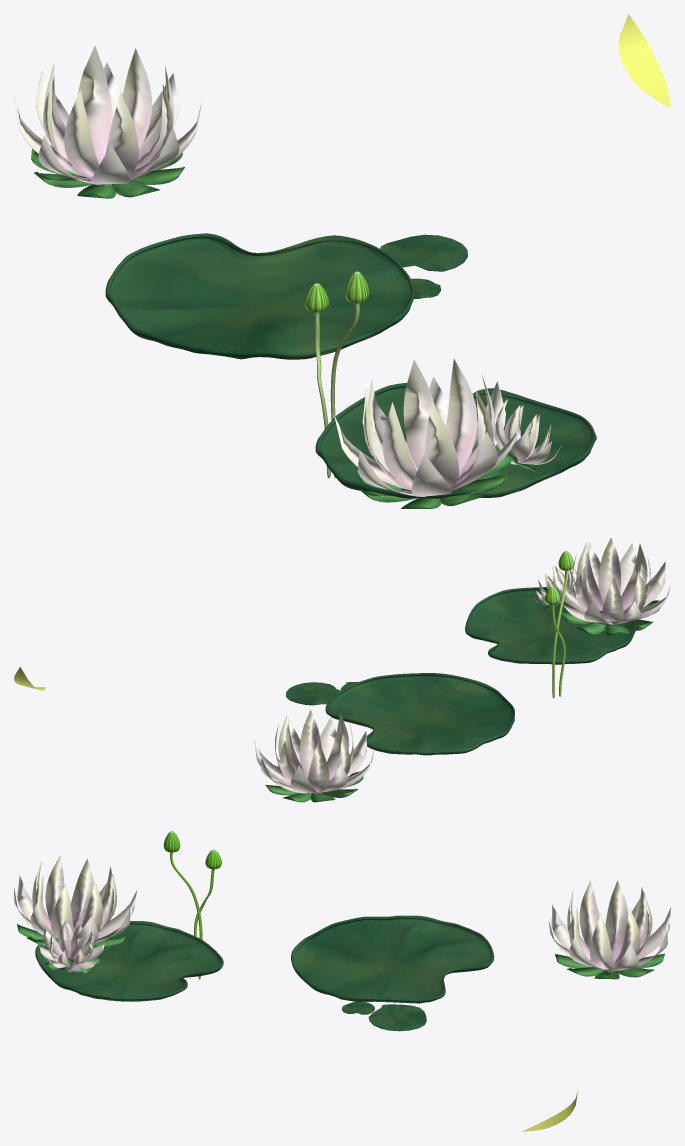
The model's file is lilipad.fbx.
3 views of the same model, one above another, from view 1: azimuth 30°, elevation 25°; view 2: azimuth 150°, elevation 25°; view 3: azimuth 270°, elevation 25° (orthographic). The views are drawn at different scales.
Parts seen in each view (by area): view 1: Circle, Plane.004, Plane.017, Circle.002, Plane.003, Plane.016, Plane.006, Circle.005, Plane.007, Plane.005, Circle.001, Circle.003 (+2 smaller); view 2: Circle, Circle.002, Plane.017, Plane.004, Plane.003, Plane.016, Circle.005, Plane.005, Plane.006, Circle.001, Circle.003; view 3: Circle, Circle.002, Plane.004, Plane.017, Plane.003, Plane.016, Circle.005, Plane.020, Plane.006, Plane.019, Circle.001, Plane.005 (+2 smaller).
Part boxes in pixels (box(x1,y1,x2,y2)): Circle: box(105, 233, 415, 359); Plane.004: box(43, 45, 173, 178); Plane.017: box(363, 358, 495, 490); Circle.002: box(315, 383, 596, 498); Plane.003: box(14, 62, 202, 184); Plane.016: box(334, 377, 519, 496); Plane.006: box(31, 149, 184, 198); Circle.005: box(380, 234, 467, 271); Plane.007: box(618, 14, 670, 107); Plane.005: box(359, 456, 510, 508); Circle.001: box(330, 271, 369, 478); Circle.003: box(304, 283, 330, 478); Circle: box(325, 673, 514, 755); Circle.002: box(465, 587, 635, 664); Plane.017: box(572, 538, 650, 621); Plane.004: box(275, 709, 353, 792); Plane.003: box(254, 717, 374, 793); Plane.016: box(552, 543, 670, 624); Circle.005: box(286, 682, 340, 705); Plane.005: box(561, 600, 659, 635); Plane.006: box(265, 765, 363, 802); Circle.001: box(552, 551, 573, 698); Circle.003: box(545, 586, 565, 696); Circle: box(291, 915, 494, 1003); Circle.002: box(35, 921, 223, 1001); Plane.004: box(567, 880, 652, 969); Plane.017: box(32, 855, 117, 937); Plane.003: box(549, 892, 670, 971); Plane.016: box(14, 874, 137, 943); Circle.005: box(368, 1004, 426, 1031); Plane.020: box(49, 923, 93, 966); Plane.006: box(555, 947, 664, 979); Plane.019: box(39, 920, 104, 972); Circle.001: box(163, 831, 202, 979); Plane.005: box(17, 924, 126, 950).
Size of the model in its own units: 154 by 48.36 by 194.
Materials: 8 (7 with a texture image).
